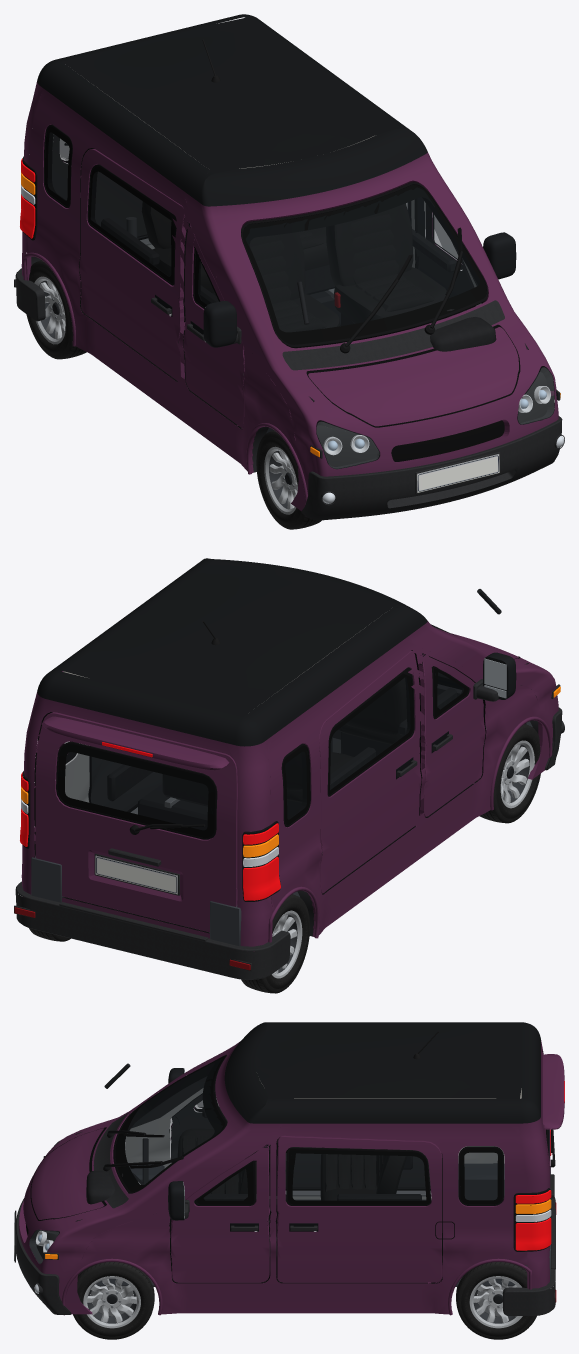
The model's file is electric-city-hatch.glb.
3 renders of one model, top to bottom at view 1: azimuth 30°, elevation 25°; view 2: azimuth 150°, elevation 25°; view 3: azimuth 270°, elevation 25°, orthographic. The views are drawn at different scales.
Visible parts, largest first — view 1: Electric_City_Hatch, Door_Rear_R, Door_R, Door_L, Wheel_Front_R, Wheel_Rear_R, Tailgate; view 2: Electric_City_Hatch, Tailgate, Door_Rear_R, Door_R, Wheel_Front_R, Door_Rear_L, Wheel_Rear_R; view 3: Electric_City_Hatch, Door_Rear_L, Door_L, Wheel_Front_L, Wheel_Rear_L, Tailgate, Door_Rear_R, Door_R.
Part boxes in pixels (box(x1,y1,x2,y2)): Electric_City_Hatch: box(14, 14, 564, 520); Door_Rear_R: box(79, 149, 186, 381); Door_R: box(183, 209, 244, 428); Door_L: box(412, 197, 516, 318); Wheel_Front_R: box(256, 430, 321, 529); Wheel_Rear_R: box(26, 260, 86, 359); Tailgate: box(52, 134, 147, 238); Electric_City_Hatch: box(14, 558, 564, 979); Tailgate: box(35, 712, 237, 932); Door_Rear_R: box(319, 650, 421, 893); Door_R: box(398, 646, 516, 816); Wheel_Front_R: box(479, 724, 540, 823); Door_Rear_L: box(88, 749, 162, 811); Wheel_Rear_R: box(241, 894, 309, 993); Electric_City_Hatch: box(14, 1022, 556, 1315); Door_Rear_L: box(277, 1135, 442, 1282); Door_L: box(168, 1137, 286, 1282); Wheel_Front_L: box(73, 1262, 154, 1339); Wheel_Rear_L: box(456, 1262, 536, 1339); Tailgate: box(542, 1052, 564, 1198); Door_Rear_R: box(285, 1147, 430, 1188); Door_R: box(168, 1068, 269, 1167).
Size of the model in its own units: 1.93 by 1.9 by 3.62.
Materials: 53 (9 with a texture image).
